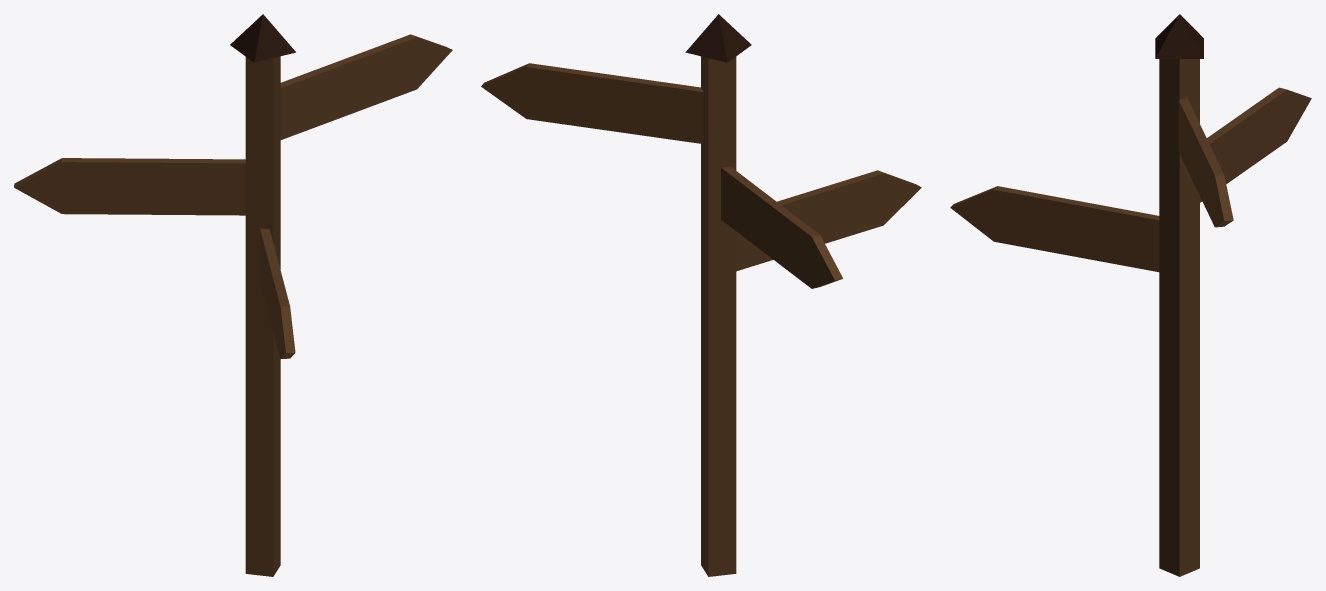
Rendered from poste_senal.fbx.
3 renders of one model, left to right at view 1: azimuth 30°, elevation 25°; view 2: azimuth 150°, elevation 25°; view 3: azimuth 270°, elevation 25°, orthographic.
Visible parts, largest first — view 1: poste_senal; view 2: poste_senal; view 3: poste_senal.
Boxes of the visible parts, x1=… form: poste_senal: x1=14, y1=14, x2=452, y2=576; poste_senal: x1=481, y1=14, x2=921, y2=576; poste_senal: x1=950, y1=14, x2=1311, y2=576.
Bounding box in the file's own units: 2.41 × 3.2 × 1.89.
